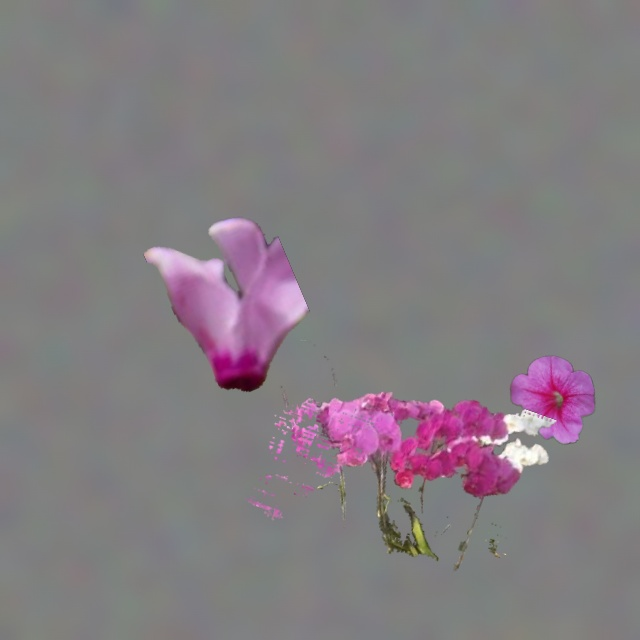cyclamen: (144, 217, 309, 391)
orchid: (246, 340, 556, 570)
petunia: (510, 356, 594, 443)
